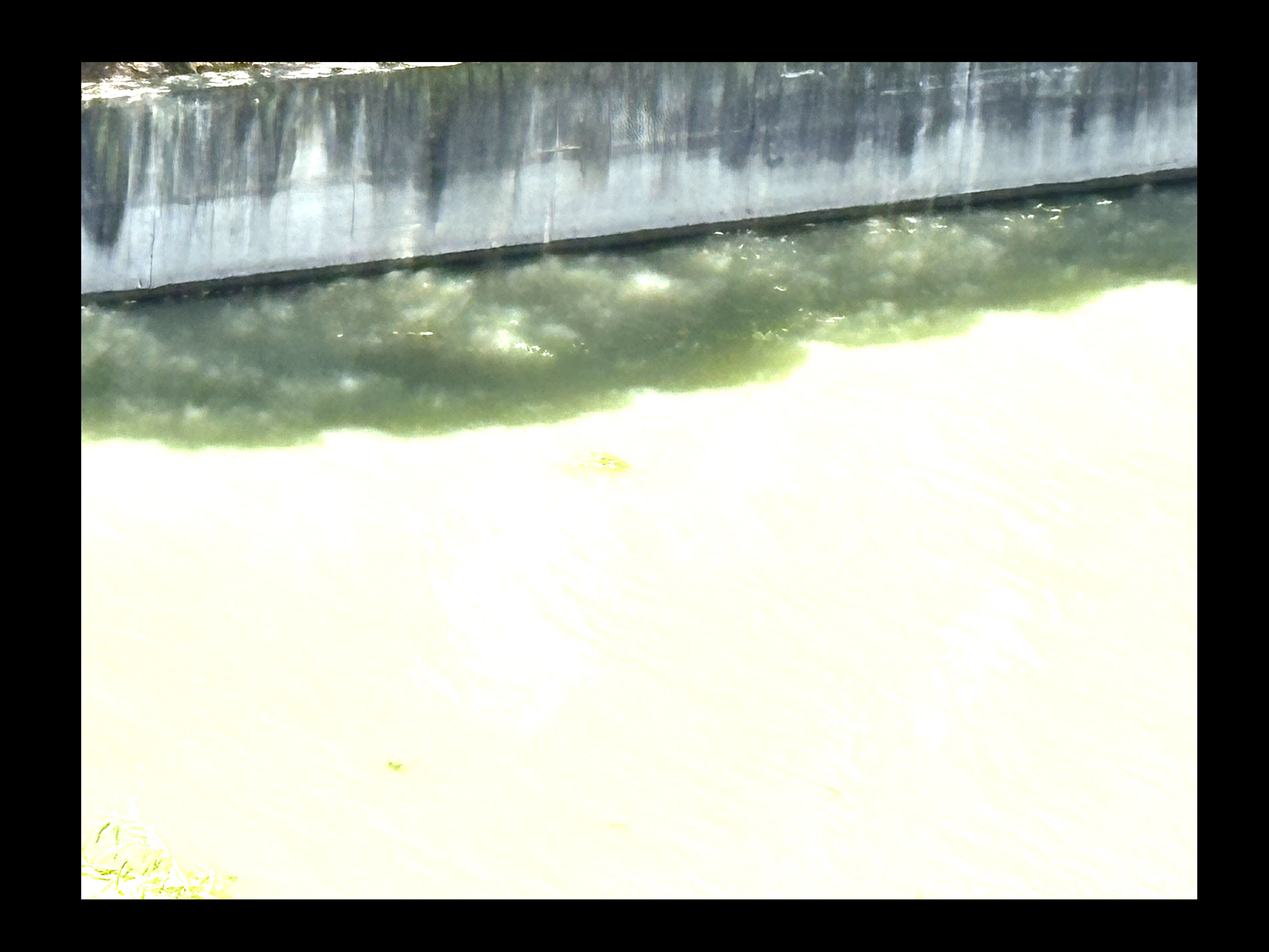Other: (578, 447, 626, 471), (386, 758, 405, 773), (827, 785, 848, 798), (609, 821, 627, 829)
